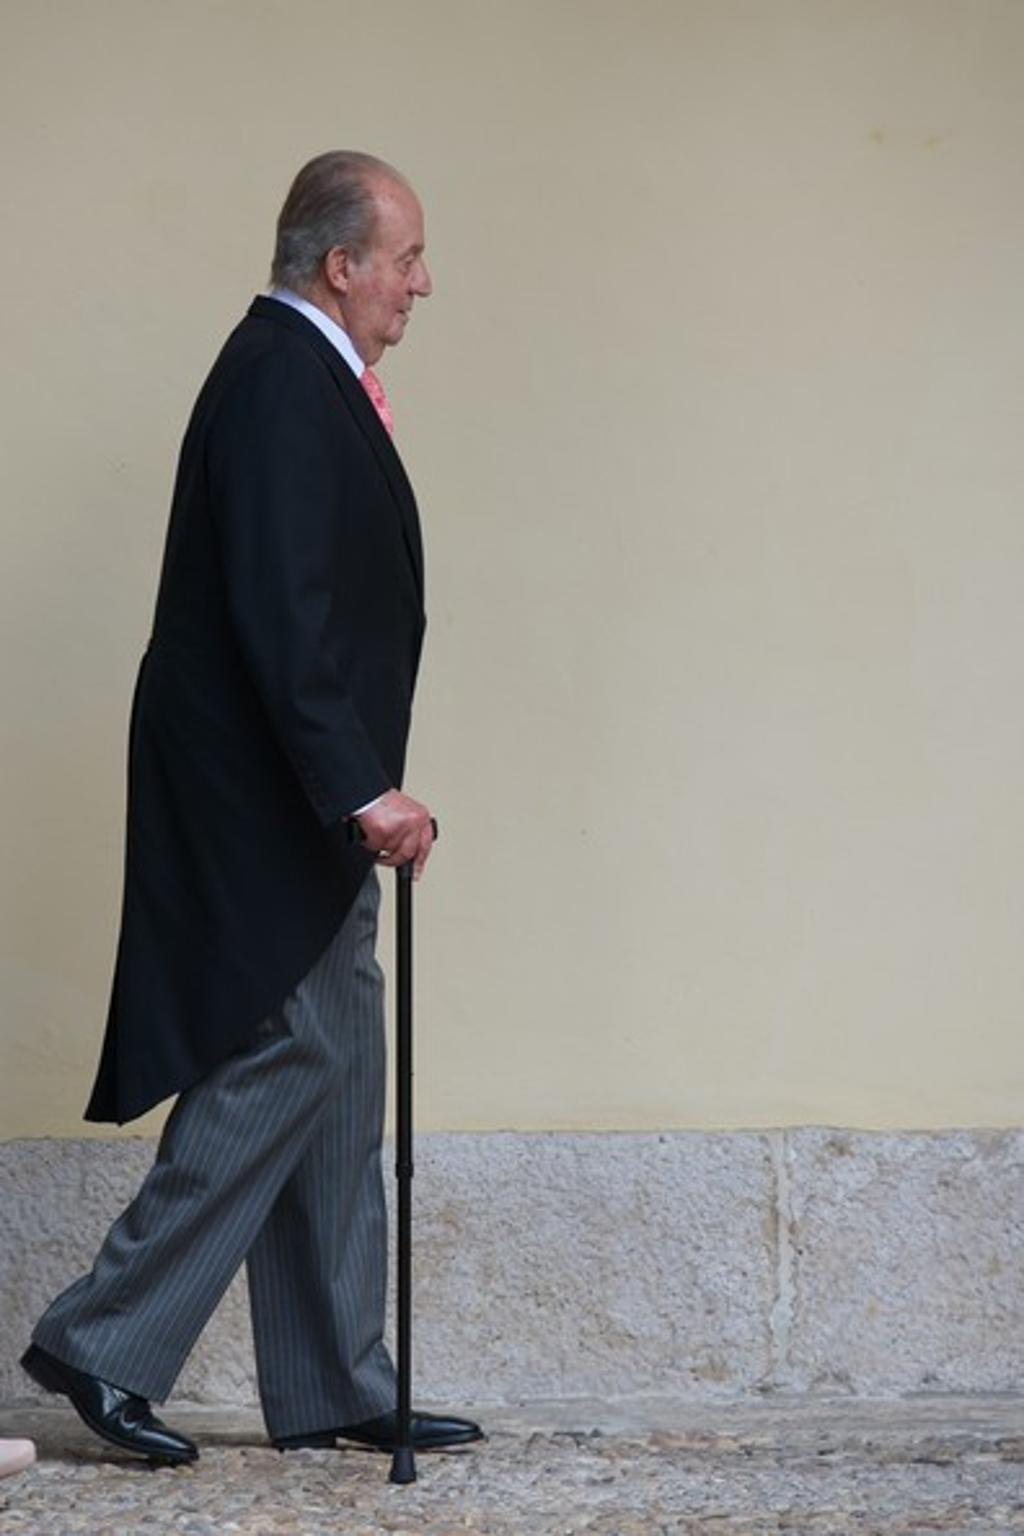face: (351, 165, 429, 345)
